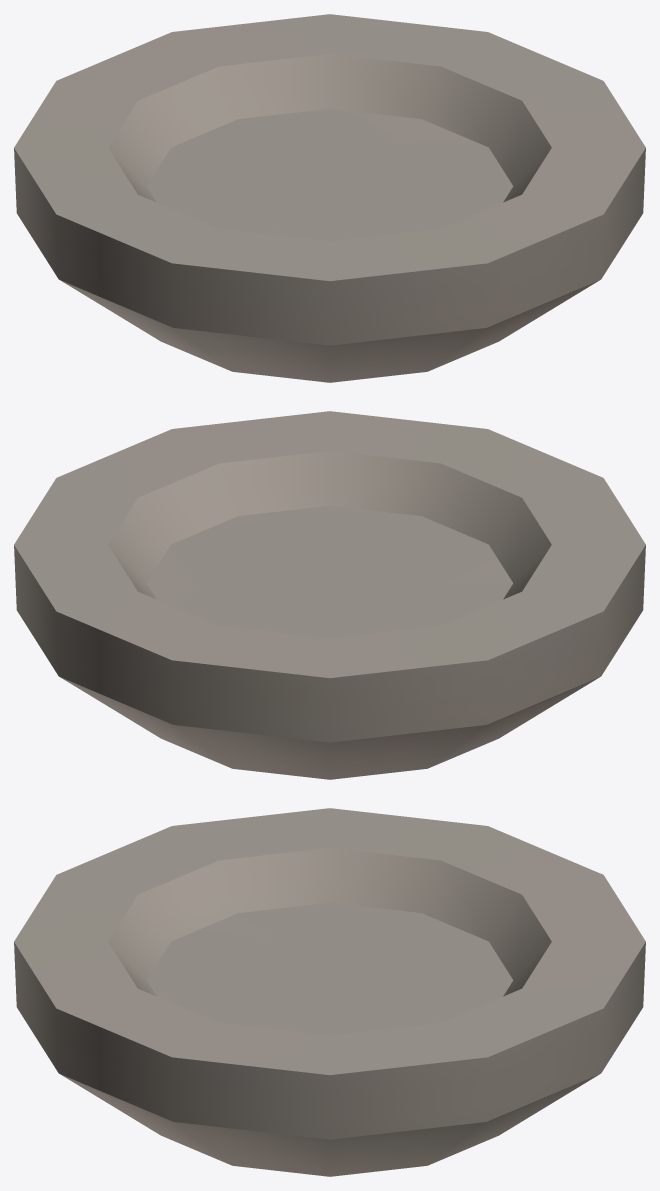
Rendered from plate_small.glb.
3 renders of one model, top to bottom at view 1: azimuth 30°, elevation 25°; view 2: azimuth 150°, elevation 25°; view 3: azimuth 270°, elevation 25°, orthographic.
Parts seen in each view (by area): view 1: plate_small; view 2: plate_small; view 3: plate_small.
Boxes of the visible parts, x1=… form: plate_small: x1=14, y1=14, x2=645, y2=382; plate_small: x1=14, y1=411, x2=645, y2=779; plate_small: x1=14, y1=808, x2=645, y2=1176.
Size of the model in its own units: 0.4853 by 0.1294 by 0.4853.
Materials: 1 (1 with a texture image).
